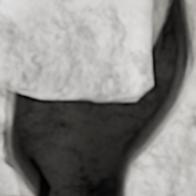brick: (0, 0, 165, 99)
broken_brick: (0, 193, 22, 195)
crack: (2, 0, 195, 195)
